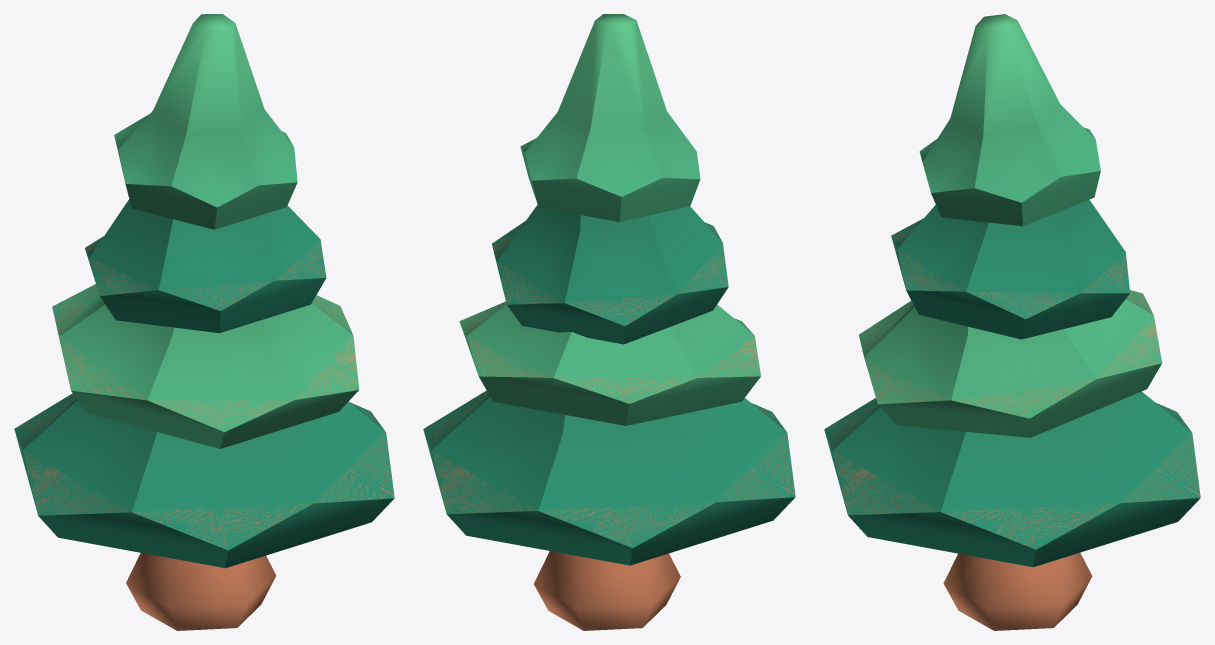
Rendered from pine-crooked.001.004.001_lev1.glb.
3 renders of one model, left to right at view 1: azimuth 30°, elevation 25°; view 2: azimuth 150°, elevation 25°; view 3: azimuth 270°, elevation 25°, orthographic. The views are drawn at different scales.
Visible parts, largest first — view 1: pine-crooked.001.004.001_lev1; view 2: pine-crooked.001.004.001_lev1; view 3: pine-crooked.001.004.001_lev1.
Boxes of the visible parts, left/top/right/bottom form: pine-crooked.001.004.001_lev1: left=14, top=14, right=394, bottom=630; pine-crooked.001.004.001_lev1: left=423, top=14, right=795, bottom=630; pine-crooked.001.004.001_lev1: left=824, top=14, right=1200, bottom=630.
Size of the model in its own units: 15.91 by 25.3 by 14.7.
Materials: 1 (1 with a texture image).
